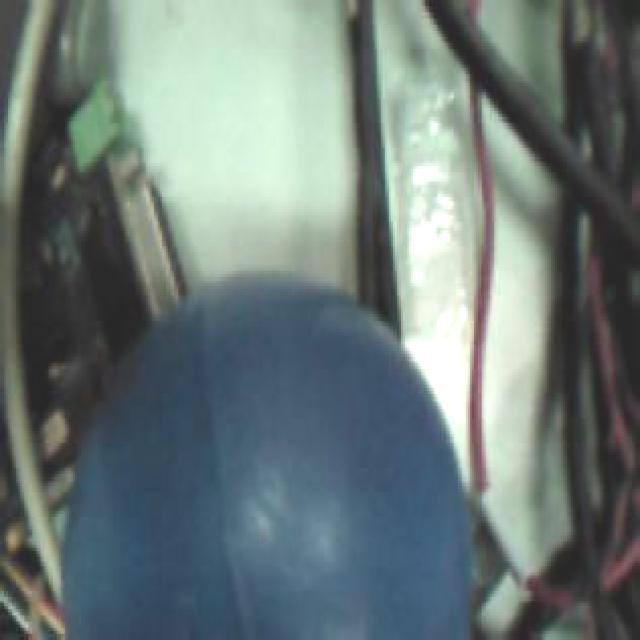BallPurple: (62, 272, 474, 640)
